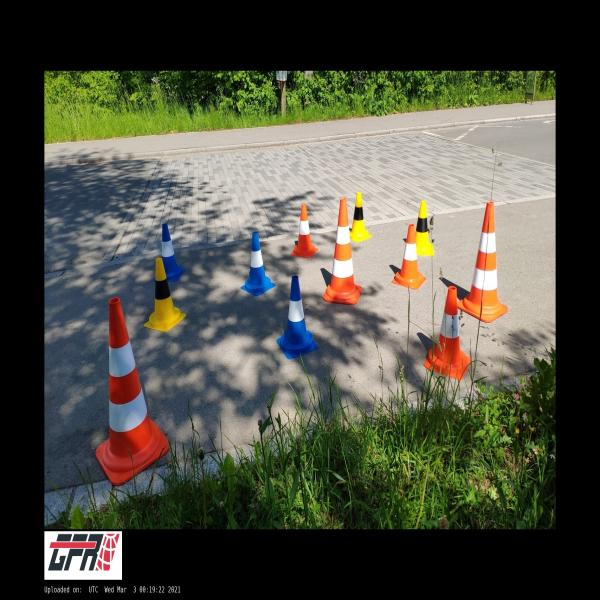blue_cone: (276, 276, 318, 360), (240, 232, 276, 296), (153, 224, 185, 280)
large_orange_cone: (95, 297, 170, 486), (457, 203, 508, 323), (323, 198, 361, 304)
orange_cone: (424, 286, 470, 380), (392, 224, 426, 290), (291, 205, 318, 258)
yellow_cone: (143, 258, 186, 332), (348, 192, 372, 243), (415, 201, 434, 256)
